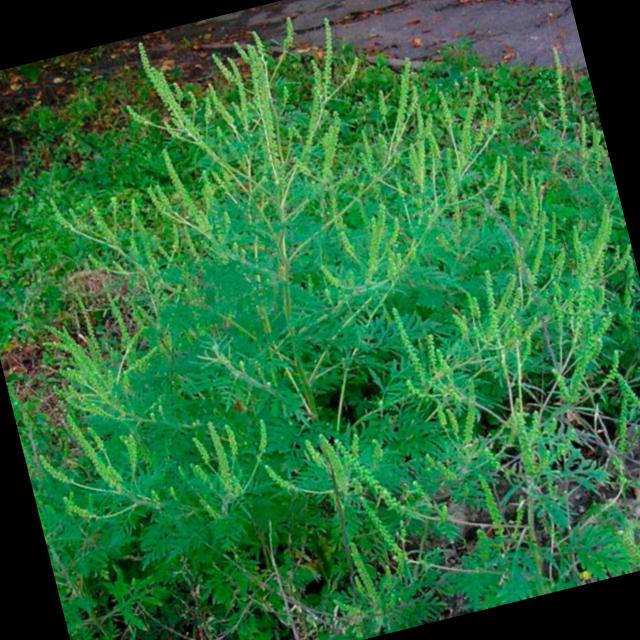ambrosia: (266, 396, 454, 636), (384, 240, 596, 433), (103, 16, 290, 191), (358, 35, 534, 216), (276, 3, 413, 184), (27, 390, 162, 552), (117, 128, 248, 293), (306, 183, 439, 304)
